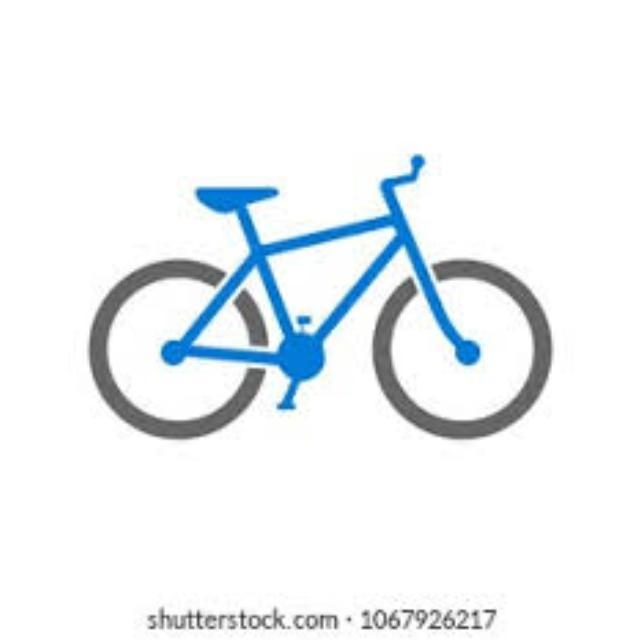obstacle: (86, 152, 556, 456)
